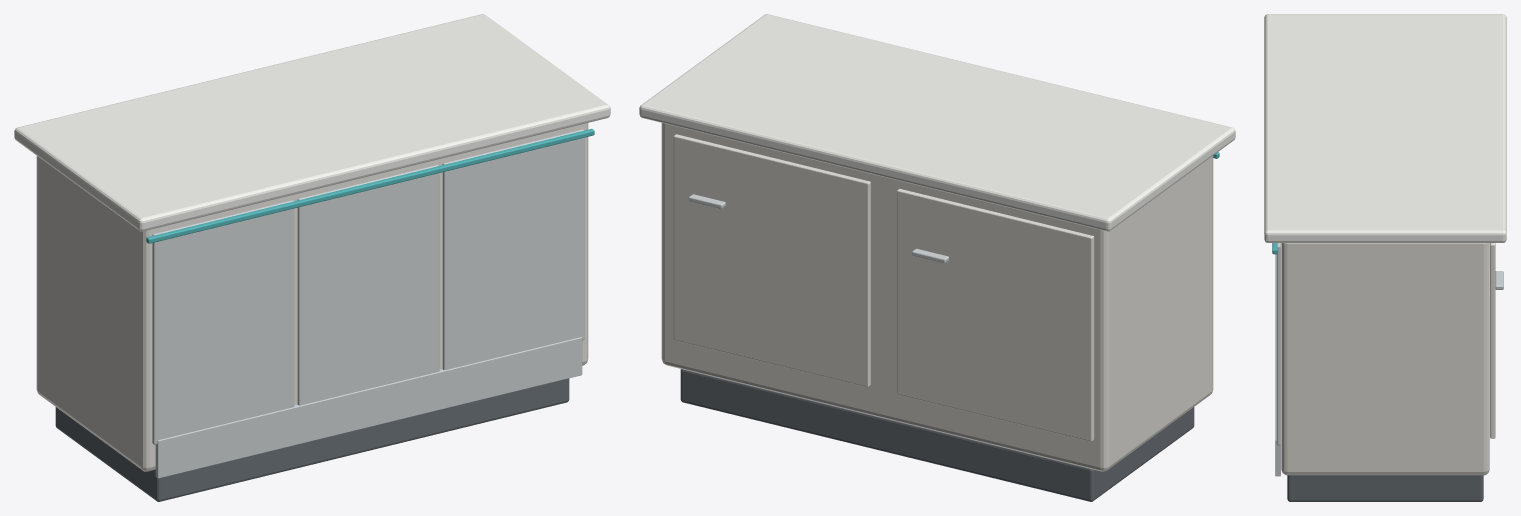
Rendered from boarding-counter.glb.
3 renders of one model, left to right at view 1: azimuth 30°, elevation 25°; view 2: azimuth 150°, elevation 25°; view 3: azimuth 270°, elevation 25°, orthographic. The views are drawn at different scales.
Parts seen in each view (by area): view 1: CounterTop, Cabinet, FrontPanel-0.52, FrontPanel0.52, FrontPanel0, KickPlate, Plinth, AccentRail; view 2: CounterTop, Cabinet, CabinetDoor1, CabinetDoor0, Plinth; view 3: CounterTop, Cabinet, Plinth, CabinetDoor1, FrontPanel0.52, KickPlate.
Part boxes in pixels (x1,y1,x2,y2): CounterTop: (14,14,610,231); Cabinet: (36,123,588,471); FrontPanel-0.52: (152,200,294,444); FrontPanel0.52: (442,129,584,369); FrontPanel0: (297,164,439,405); KickPlate: (155,337,582,478); Plinth: (55,378,569,501); AccentRail: (146,128,594,243); CounterTop: (639,14,1235,231); Cabinet: (661,123,1213,471); CabinetDoor1: (673,134,870,387); CabinetDoor0: (897,188,1094,441); Plinth: (680,369,1194,501); CounterTop: (1264,14,1506,242); Cabinet: (1281,243,1489,475); Plinth: (1287,475,1483,501); CabinetDoor1: (1490,243,1495,438); FrontPanel0.52: (1276,243,1280,445); KickPlate: (1275,254,1280,476).
Size of the model in its own units: 1.69 by 1.02 by 0.79.
